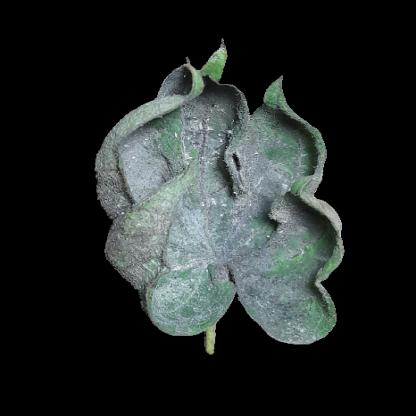sooty: (226, 226, 316, 330), (182, 183, 267, 274), (238, 117, 313, 207), (97, 144, 190, 209), (114, 213, 182, 287), (169, 62, 237, 121), (190, 111, 238, 161)
